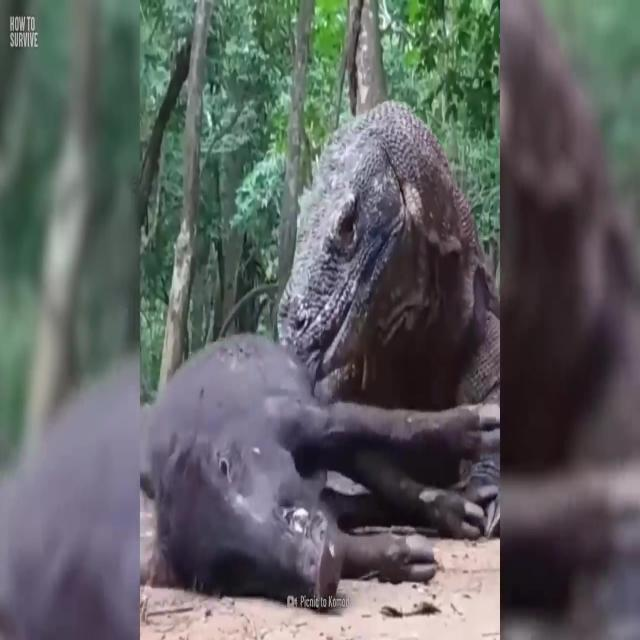pig: (136, 295, 482, 615)
